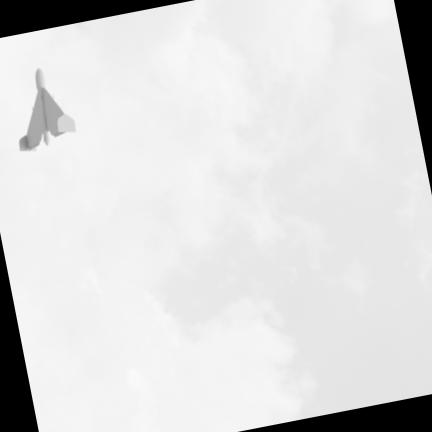Shahed: (19, 69, 75, 151)
